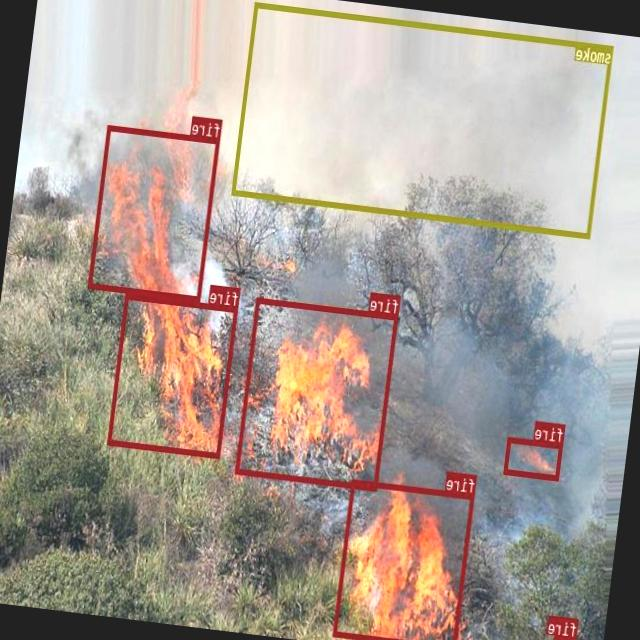fire: (236, 296, 400, 490), (88, 124, 221, 300), (333, 478, 474, 640), (108, 292, 238, 457), (504, 436, 564, 479)
smoke: (232, 2, 614, 238)
